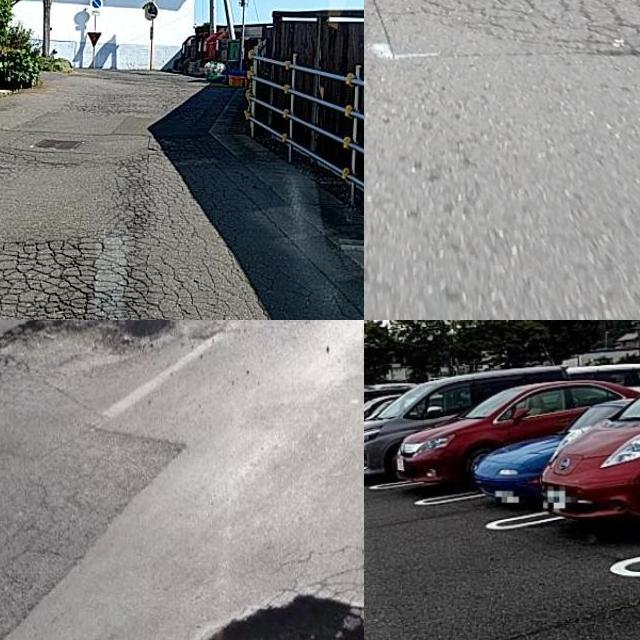Lubang: (0, 320, 178, 391)
Melintang: (457, 587, 640, 640)
Retak Buaya: (0, 236, 227, 320), (413, 0, 640, 55)
